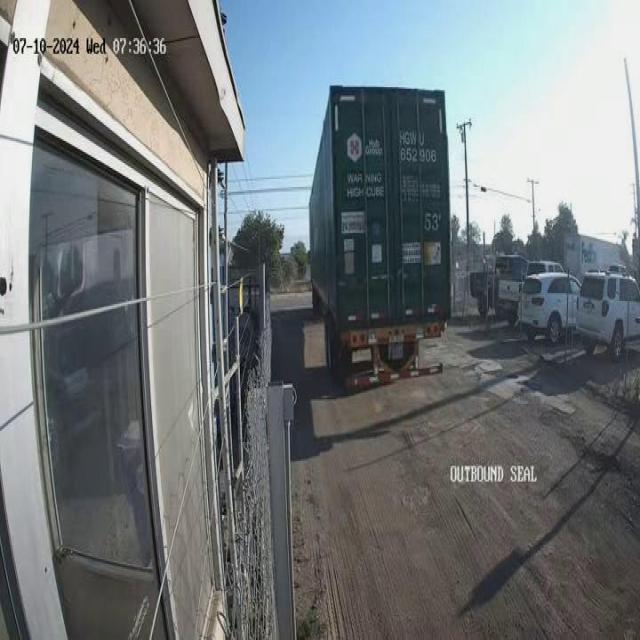CONTAINER: (308, 82, 453, 339)
